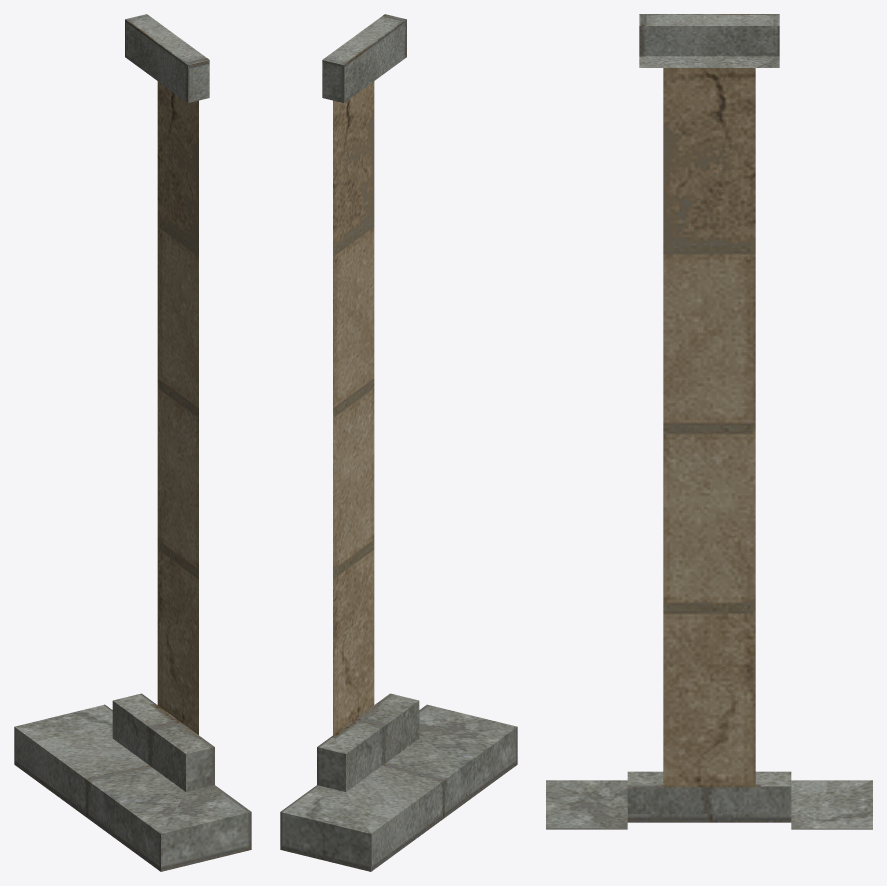
The model's file is wall_end.fbx.
3 views of the same model, side by side, from view 1: azimuth 30°, elevation 25°; view 2: azimuth 150°, elevation 25°; view 3: azimuth 270°, elevation 25° (orthographic). The views are drawn at different scales.
Visible parts, largest first — view 1: wall_end; view 2: wall_end; view 3: wall_end.
Part boxes in pixels (<box>): wall_end: <box>14,14,251,871</box>; wall_end: <box>280,14,517,871</box>; wall_end: <box>546,14,872,829</box>.
Bounding box in the file's own units: 25 × 200 × 70.
